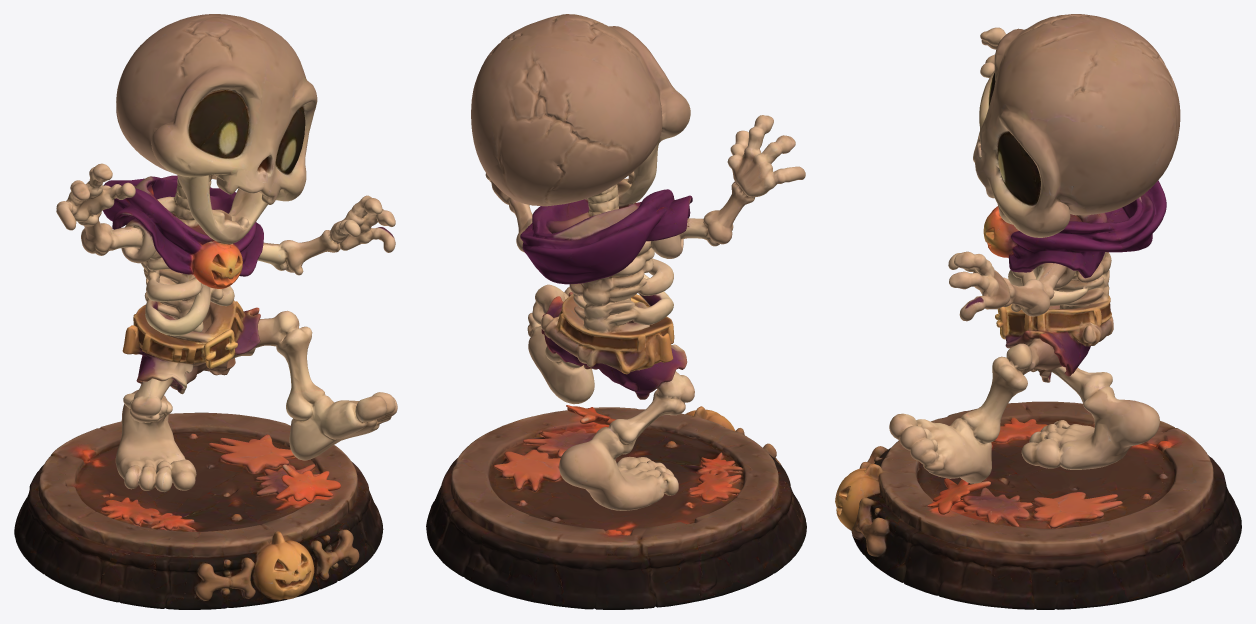
Rendered from rattle.glb.
3 views of the same model, side by side, from view 1: azimuth 30°, elevation 25°; view 2: azimuth 150°, elevation 25°; view 3: azimuth 270°, elevation 25° (orthographic). The views are drawn at different scales.
Size of the model in its own units: 1.29 by 1.9 by 1.34.
Materials: 1 (1 with a texture image).
